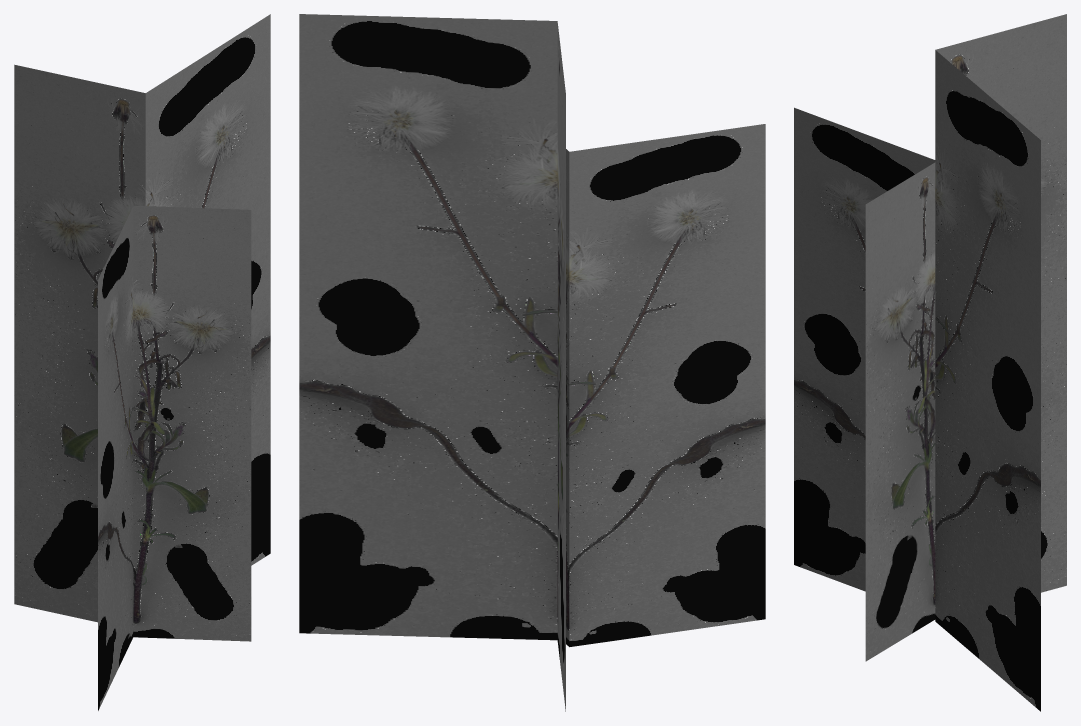
File: white_flower_02.glb
3 views of the same model, side by side, from view 1: azimuth 30°, elevation 25°; view 2: azimuth 150°, elevation 25°; view 3: azimuth 270°, elevation 25° (orthographic). The views are drawn at different scales.
Visible parts, largest first — view 1: Plane.083; view 2: Plane.083; view 3: Plane.083.
Part boxes in pixels (bbox=[...]): Plane.083: bbox=[14, 14, 270, 710]; Plane.083: bbox=[299, 14, 765, 711]; Plane.083: bbox=[794, 14, 1066, 711].
Size of the model in its own units: 0.6061 by 1.08 by 0.4671.
Materials: 1 (1 with a texture image).
